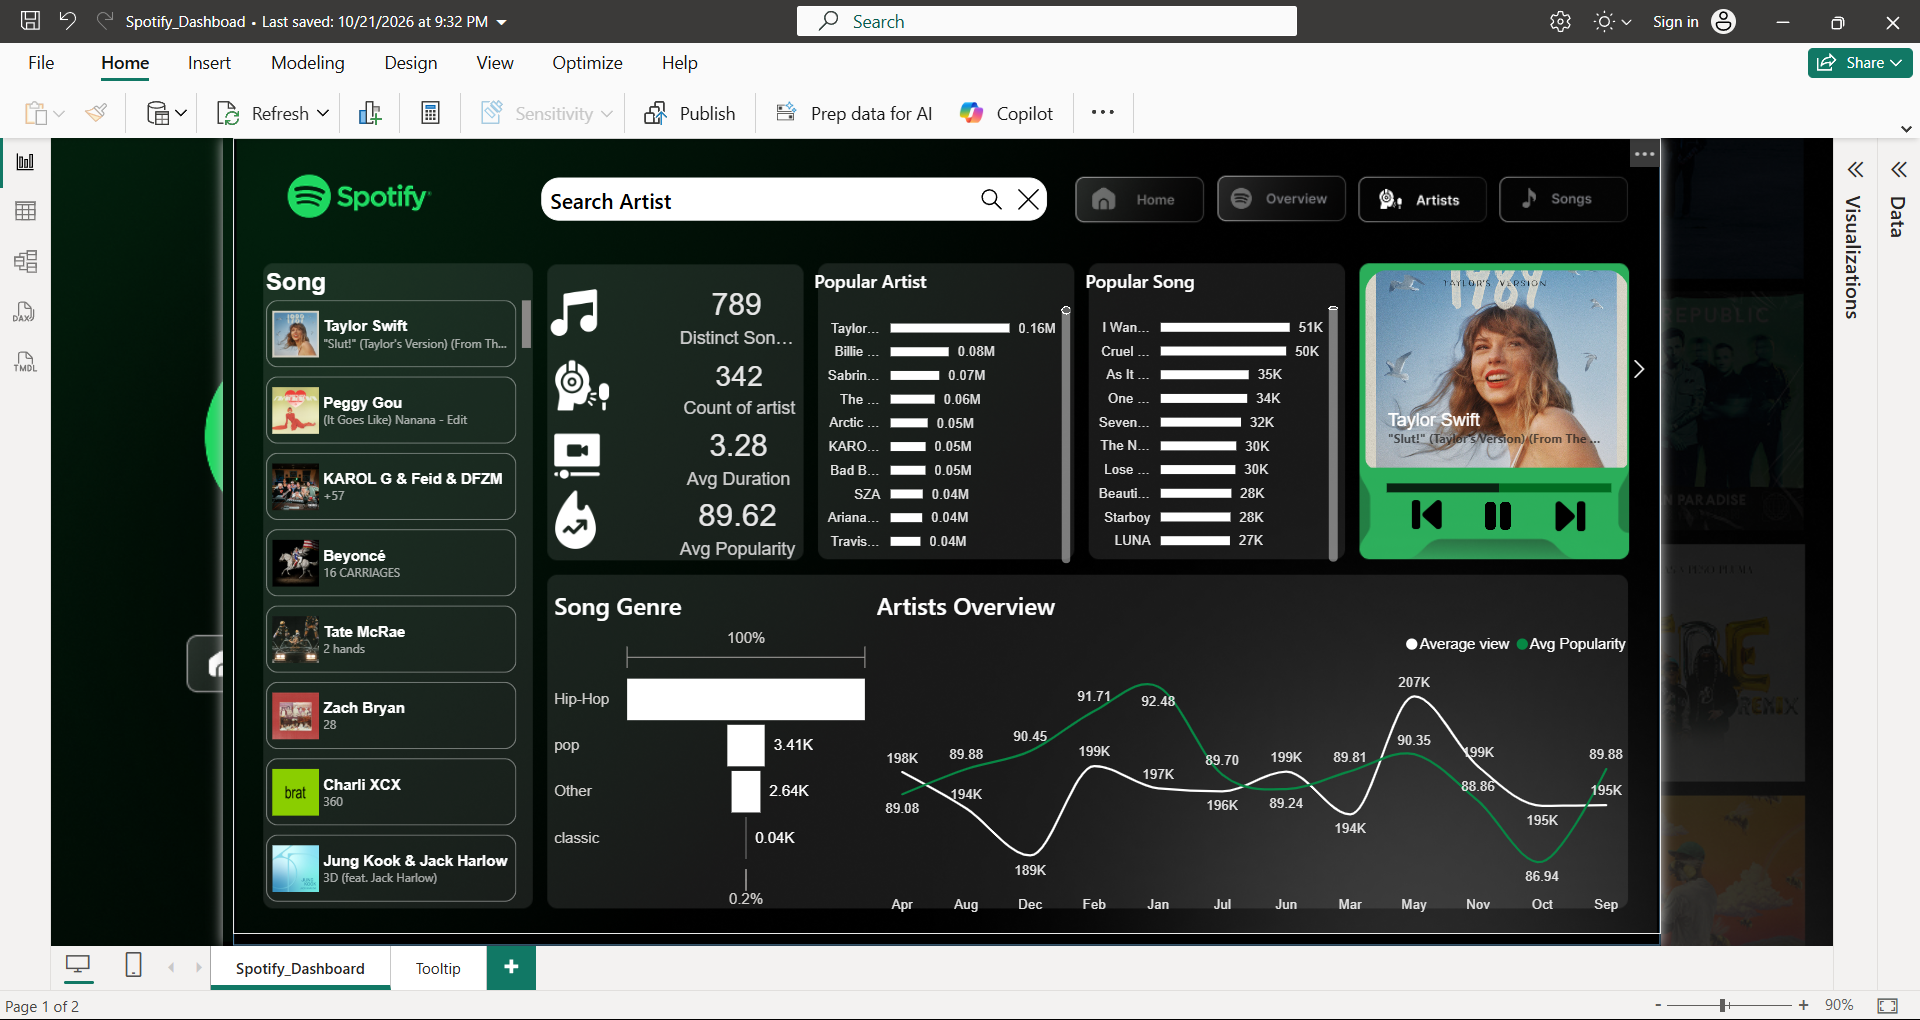

What the dashboard file says about the page in this screenshot:
{"tool":"powerbi","page":{"name":"Spotify_Dashboard","canvas":[1280,720],"ordinal":0},"visuals":[{"type":"card","fields":{"Values":["_Measures.Distinct Songs"]},"box":[406.5,126.9,102.1,60.5],"z":0,"group":"g1"},{"type":"actionButton","box":[223.7,426.3,115.8,44.5],"z":0},{"type":"card","fields":{"Values":["Count(Top-50-world.artist)"]},"box":[407.3,190.4,104.8,60.5],"z":1000,"group":"g1"},{"type":"actionButton","box":[352.9,428.6,116.9,42.3],"z":1000},{"type":"card","fields":{"Values":["_Measures.Avg Duration Minutes"]},"box":[407.3,251.4,103.4,61.9],"z":2000,"group":"g1"},{"type":"actionButton","box":[480,430,116,41.3],"z":2000},{"type":"actionButton","box":[62.7,206.3,576.7,153.2],"z":3000},{"type":"card","fields":{"Values":["_Measures.Avg Popularity"]},"box":[405.3,313.5,106.1,60.5],"z":3000,"group":"g1"},{"type":"shape","box":[8.9,0,1271.2,719.1],"z":4000},{"type":"image","box":[286.6,134.7,53,41.3],"z":4000,"group":"g1"},{"type":"image","box":[295,313.4,54.4,52.3],"z":5000,"group":"g1"},{"type":"image","box":[289.3,196.5,61.2,48.4],"z":6000,"group":"g1"},{"type":"image","box":[286.1,259.5,58.4,48.1],"z":7000,"group":"g1"},{"type":"image","box":[8.9,0,1271.2,709.1],"z":32000},{"type":"actionButton","box":[753.2,35.2,117.5,42.6],"z":33000},{"type":"actionButton","box":[881.3,33.2,116.7,41.9],"z":34000},{"type":"actionButton","box":[1137.9,34.5,116.6,41.7],"z":35000},{"type":"clusteredBarChart","title":" Popular Song","fields":{"Category":["Top-50-world.song"],"Y":["Sum(Top-50-world.popularity)"]},"box":[768.4,115.4,224.7,261.9],"z":36000},{"type":"clusteredBarChart","title":"Popular Artist","fields":{"Category":["Top-50-world.artist"],"Y":["Sum(Top-50-world.popularity)"]},"box":[526.4,115.7,228.4,263.2],"z":37000},{"type":"hundredPercentStackedBarChart","fields":{"Y":["_Measures.Avg Popularity","Avg(Top-50-world.popularity)"]},"box":[1036,281.4,200,54.7],"z":38000},{"type":"image","box":[1115.8,322.1,40.4,29.9],"z":39000},{"type":"image","box":[1180.4,322.2,40.1,30.1],"z":40000},{"type":"image","box":[1026,320.6,91.2,29.9],"z":41000},{"type":"advancedSlicerVisual","title":"Song","fields":{"Label":["_Measures.Distinct Artists"],"Values":["Top-50-world.song"]},"box":[996.5,111.6,280.2,188.4],"z":42000},{"type":"lineChart","title":"Artists Overview","fields":{"Category":["Top-50-world.Month","Top-50-world.artist"],"Y":["Avg(Top-50-world.duration_ms)"],"Y2":["_Measures.Avg Popularity"]},"box":[582.7,402,672.4,292.1],"z":43000},{"type":"shape","box":[1009.3,110.5,245.3,266.3],"z":44000},{"type":"actionButton","box":[46.2,34.1,149.6,49.5],"z":45000},{"type":"group","id":"g1","title":"Group 1","box":[286.1,126.9,226,247.1],"z":53000},{"type":"advancedSlicerVisual","title":"Song ","fields":{"Label":["_Measures.Distinct Artists"],"Values":["Top-50-world.song"]},"box":[33.4,115.8,246.7,573.3],"z":83000},{"type":"textSearchSlicerF85E2E78BE4A4D7D9F99ED75B5D71C85","fields":{"fields":["Top-50-world.artist"]},"box":[273.6,25.7,470.2,55.2],"z":84000},{"type":"shape","box":[525,111.7,115,36.7],"z":88000},{"type":"shape","box":[768.3,115,115,36.7],"z":89000},{"type":"shape","box":[1099,224.1,178.6,36.2],"z":90000},{"type":"shape","box":[816.7,511.7,118.3,31.7],"z":95000},{"type":"shape","box":[816.7,330,131.7,33.3],"z":96000},{"type":"funnel","title":"Song Genre","fields":{"Category":["Top-50-world.genre"],"Y":["CountNonNull(Top-50-world.song)"]},"box":[295,401.9,281.6,286.1],"z":97000},{"type":"actionButton","box":[572.6,402,170.6,43.4],"z":102000},{"type":"shape","box":[282,393.3,179.3,36.2],"z":112000}]}

Visuals, with their boxes on the page's 1280x720 design canvas (x1, y1, x2, y2). These are canvas units, not pixel positions in the 1920x1020 screenshot, which may show the page scaled, cropped or inside an application window:
card - _Measures.Distinct Songs: [left=406, top=127, right=509, bottom=187]
actionButton: [left=224, top=426, right=340, bottom=471]
card - Count(Top-50-world.artist): [left=407, top=190, right=512, bottom=251]
actionButton: [left=353, top=429, right=470, bottom=471]
card - _Measures.Avg Duration Minutes: [left=407, top=251, right=511, bottom=313]
actionButton: [left=480, top=430, right=596, bottom=471]
actionButton: [left=63, top=206, right=639, bottom=360]
card - _Measures.Avg Popularity: [left=405, top=314, right=511, bottom=374]
shape: [left=9, top=0, right=1280, bottom=719]
image: [left=287, top=135, right=340, bottom=176]
image: [left=295, top=313, right=349, bottom=366]
image: [left=289, top=196, right=350, bottom=245]
image: [left=286, top=260, right=344, bottom=308]
image: [left=9, top=0, right=1280, bottom=709]
actionButton: [left=753, top=35, right=871, bottom=78]
actionButton: [left=881, top=33, right=998, bottom=75]
actionButton: [left=1138, top=34, right=1254, bottom=76]
" Popular Song" clusteredBarChart: [left=768, top=115, right=993, bottom=377]
"Popular Artist" clusteredBarChart: [left=526, top=116, right=755, bottom=379]
hundredPercentStackedBarChart - _Measures.Avg Popularity x Avg(Top-50-world.popularity): [left=1036, top=281, right=1236, bottom=336]
image: [left=1116, top=322, right=1156, bottom=352]
image: [left=1180, top=322, right=1220, bottom=352]
image: [left=1026, top=321, right=1117, bottom=350]
"Song" advancedSlicerVisual: [left=996, top=112, right=1277, bottom=300]
"Artists Overview" lineChart: [left=583, top=402, right=1255, bottom=694]
shape: [left=1009, top=110, right=1255, bottom=377]
actionButton: [left=46, top=34, right=196, bottom=84]
"Group 1" group: [left=286, top=127, right=512, bottom=374]
"Song " advancedSlicerVisual: [left=33, top=116, right=280, bottom=689]
textSearchSlicerF85E2E78BE4A4D7D9F99ED75B5D71C85 - Top-50-world.artist: [left=274, top=26, right=744, bottom=81]
shape: [left=525, top=112, right=640, bottom=148]
shape: [left=768, top=115, right=883, bottom=152]
shape: [left=1099, top=224, right=1278, bottom=260]
shape: [left=817, top=512, right=935, bottom=543]
shape: [left=817, top=330, right=948, bottom=363]
"Song Genre" funnel: [left=295, top=402, right=577, bottom=688]
actionButton: [left=573, top=402, right=743, bottom=445]
shape: [left=282, top=393, right=461, bottom=430]
